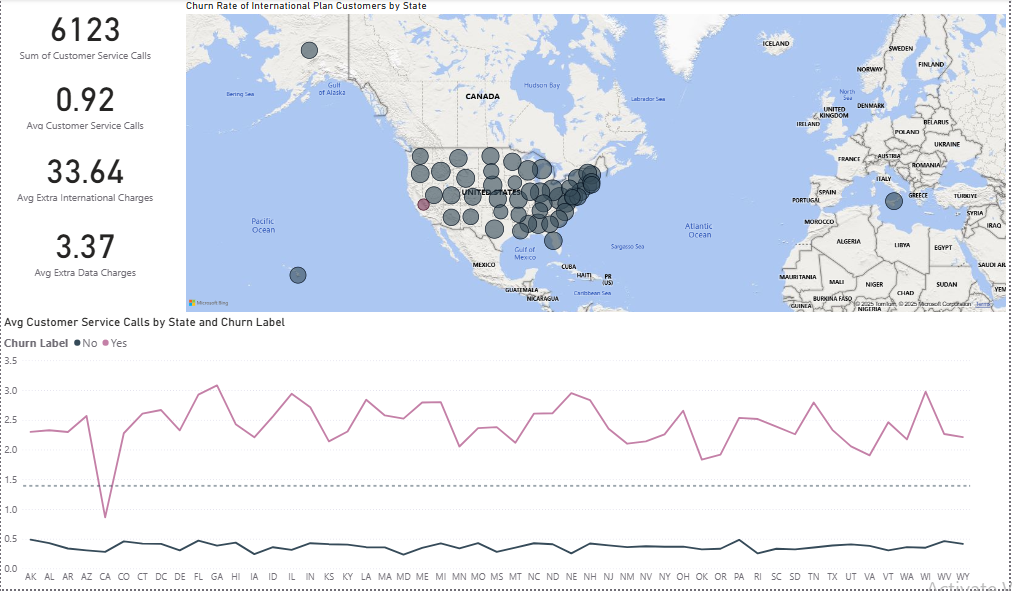

Layout of this report page (visuals, bound fields, positions):
{"tool":"powerbi","page":{"name":"Insights","canvas":[1640,960],"ordinal":15},"visuals":[{"type":"card","fields":{"Values":["Sum(Databel - Data.Customer Service Calls)"]},"box":[0,0,273.8,104.9],"z":0},{"type":"card","fields":{"Values":["_Calculations.Avg Customer Service Calls"]},"box":[0,117.3,273.8,99.6],"z":1000},{"type":"card","fields":{"Values":["_Calculations.Avg Extra Charges"]},"box":[0,353.8,273.8,106.7],"z":2000},{"type":"card","fields":{"Values":["_Calculations.Avg Extra International Charges"]},"box":[0,229.3,273.8,110.2],"z":3000},{"type":"lineChart","fields":{"Category":["Databel - Data.State"],"Y":["_Calculations.Avg Customer Service Calls"],"Series":["Databel - Data.Churn Label"]},"box":[0,513.8,1582.2,446.2],"z":4000},{"type":"map","title":"Churn Rate of International Plan Customers by State","fields":{"Category":["Databel - Data.State"],"Size":["Sum(Databel - Data.Customer Service Calls)"]},"box":[296.9,0,1344,513.8],"z":5000}]}

Visuals, with their boxes in screenshot pixels (x1, y1, x2, y2), scaled from the page's 1640x960 canvas onto the 1012x591 screenshot:
card - Sum(Databel - Data.Customer Service Calls): [0,0,169,65]
card - _Calculations.Avg Customer Service Calls: [0,72,169,134]
card - _Calculations.Avg Extra Charges: [0,218,169,283]
card - _Calculations.Avg Extra International Charges: [0,141,169,209]
lineChart - Databel - Data.State x _Calculations.Avg Customer Service Calls: [0,316,976,590]
"Churn Rate of International Plan Customers by State" map: [183,0,1011,316]
